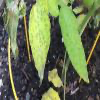Tomato Septoria leaf spot: (58, 3, 90, 85), (28, 3, 52, 89)
